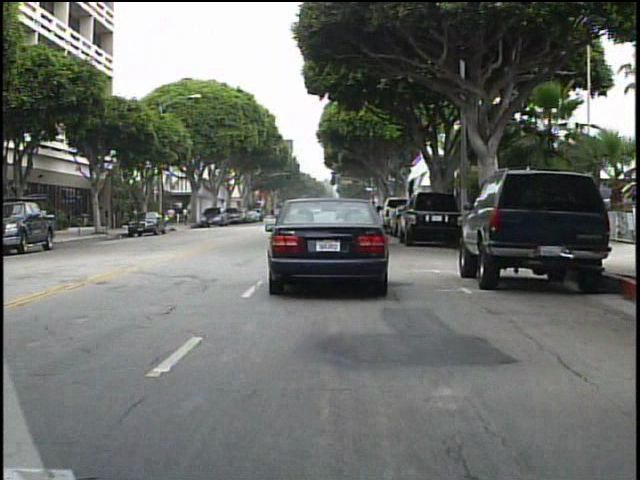person: (182, 203, 194, 228), (169, 205, 178, 225)
